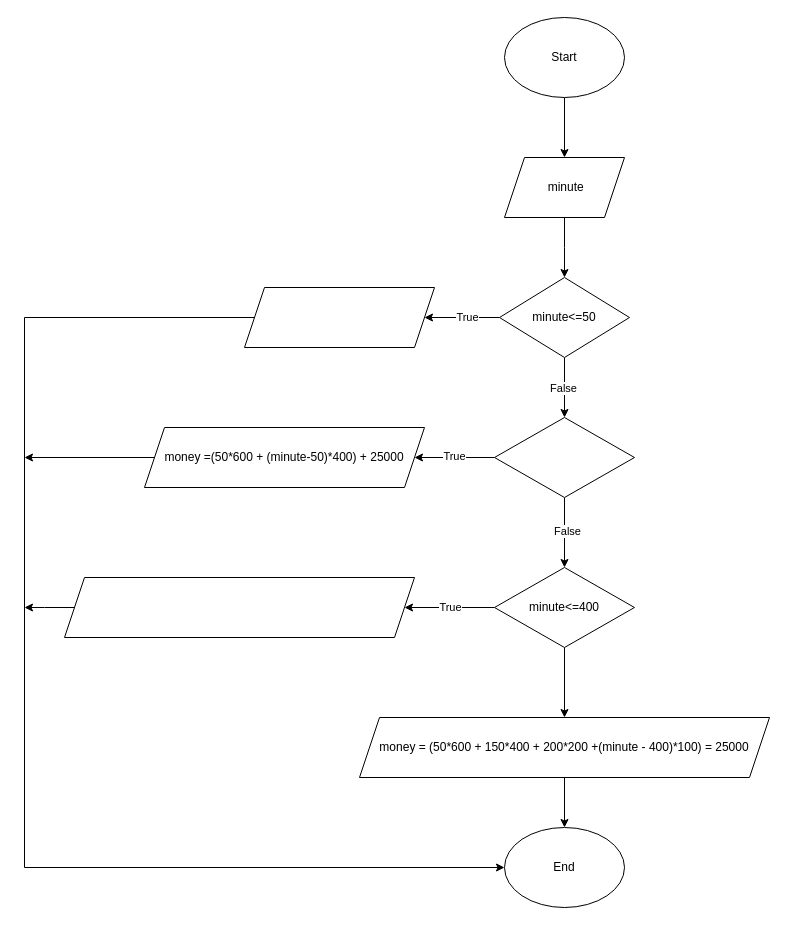
This 787x925 diagram has some shape labels left out. Here are the shapes that lost their labels. From the top down, the centre of each, then its label:
(339,317): money = minute*600+25000
(564,457): minute<=200
(239,607): money = (50*600 + 150*400 + (minute - 200)*200) + 25000
